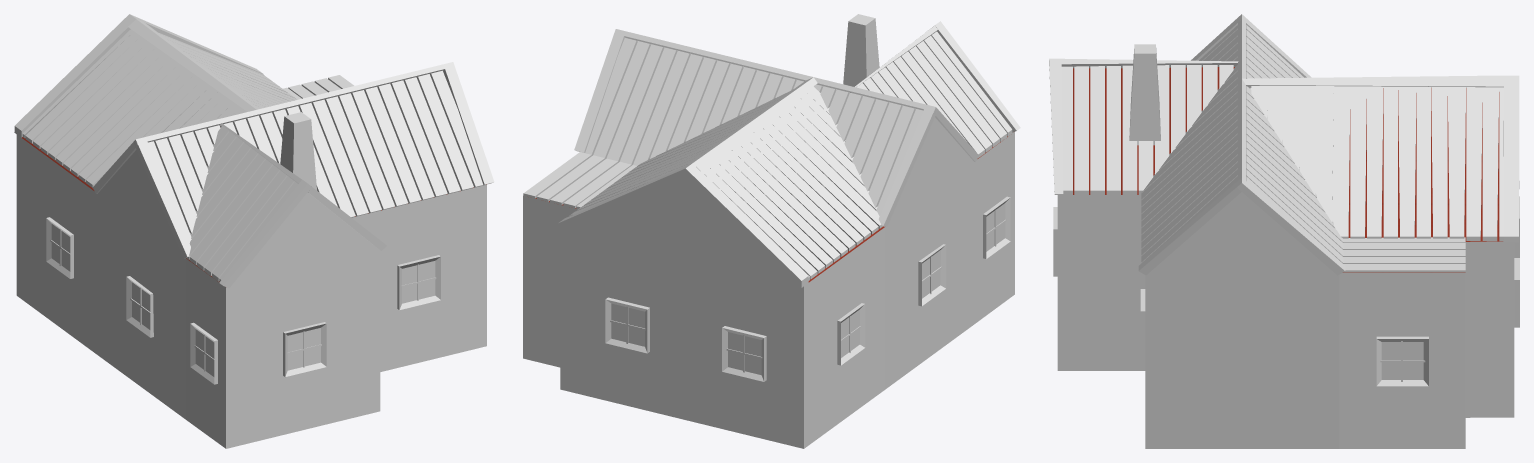
The model's file is casa5.fbx.
3 renders of one model, left to right at view 1: azimuth 30°, elevation 25°; view 2: azimuth 150°, elevation 25°; view 3: azimuth 270°, elevation 25°, orthographic. The views are drawn at different scales.
Visible parts, largest first — view 1: estrutura, TELHAS, detalhes, janelas; view 2: estrutura, TELHAS, detalhes, janelas; view 3: estrutura, TELHAS, detalhes, janelas.
Boxes of the visible parts, x1,y1,x2,y2 form: estrutura: (16, 112, 486, 448); TELHAS: (22, 29, 485, 282); detalhes: (14, 14, 494, 288); janelas: (46, 217, 440, 384); estrutura: (523, 14, 1014, 448); TELHAS: (523, 31, 1013, 280); detalhes: (557, 21, 1020, 287); janelas: (605, 196, 1010, 381); estrutura: (1057, 44, 1514, 448); TELHAS: (1061, 24, 1503, 272); detalhes: (1049, 14, 1519, 275); janelas: (1053, 196, 1519, 386).
Size of the model in its own units: 4117 by 3402 by 4849.
